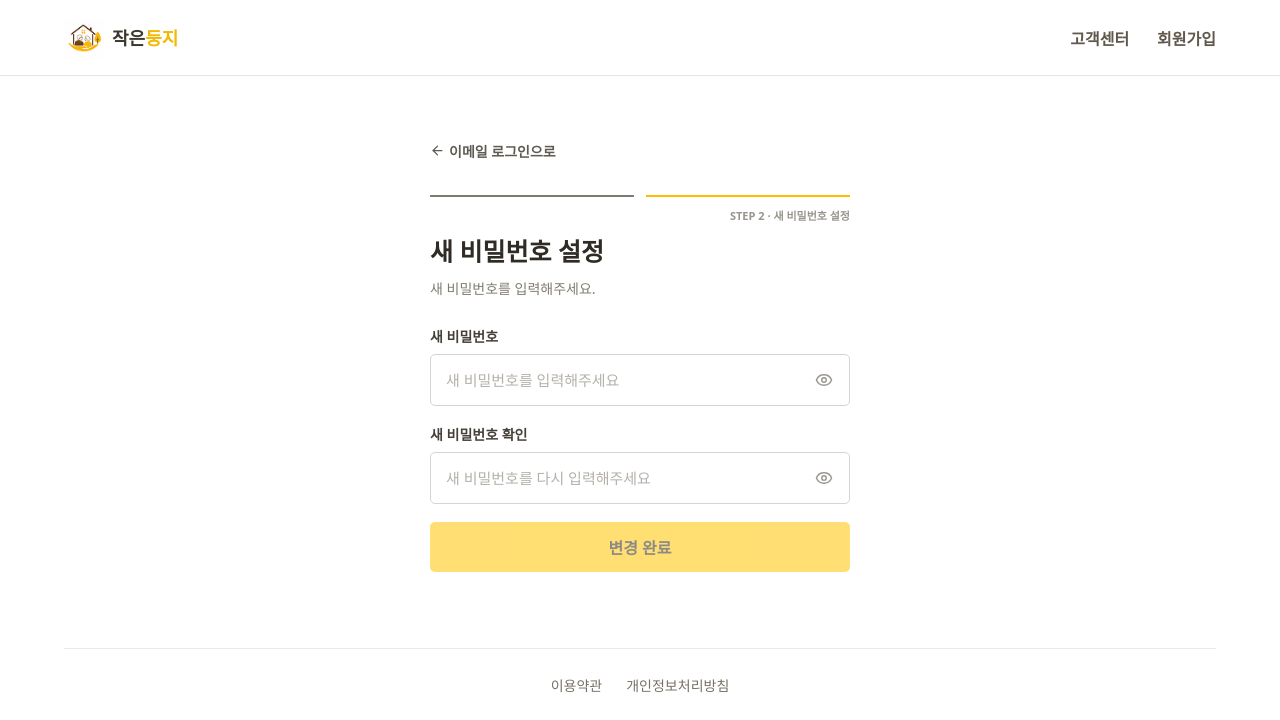
Scenario: PasswordResetCompleteView › shows password policy and matching feedback before enabling submit
Type "weak" into the password field named "password" at (640, 380), box [430,354,850,406]
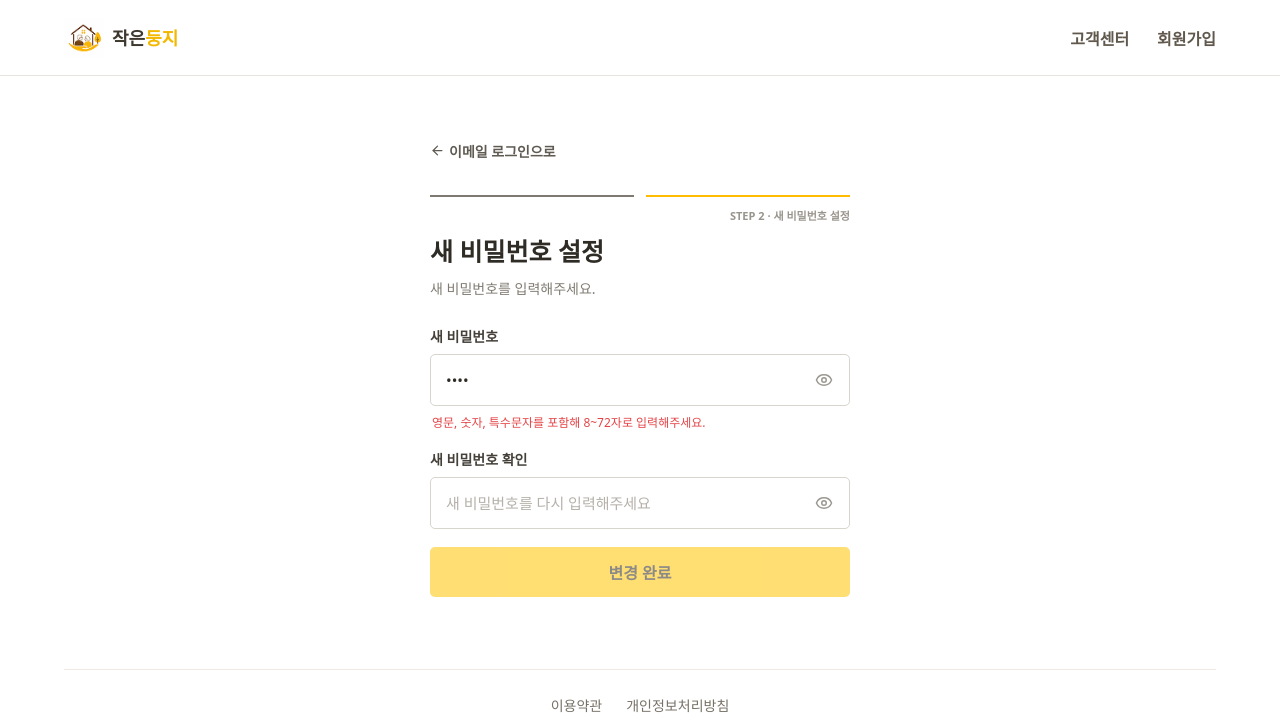
Expected: the submit button is disabled, [430,547,850,597]
Result: the text "영문, 숫자, 특수문자를 포함해 8~72자로 입력해주세요." is shown at [432,414,706,430]
Type "NewSenior!23" into the password field named "password" at (640, 380), box [430,354,850,406]
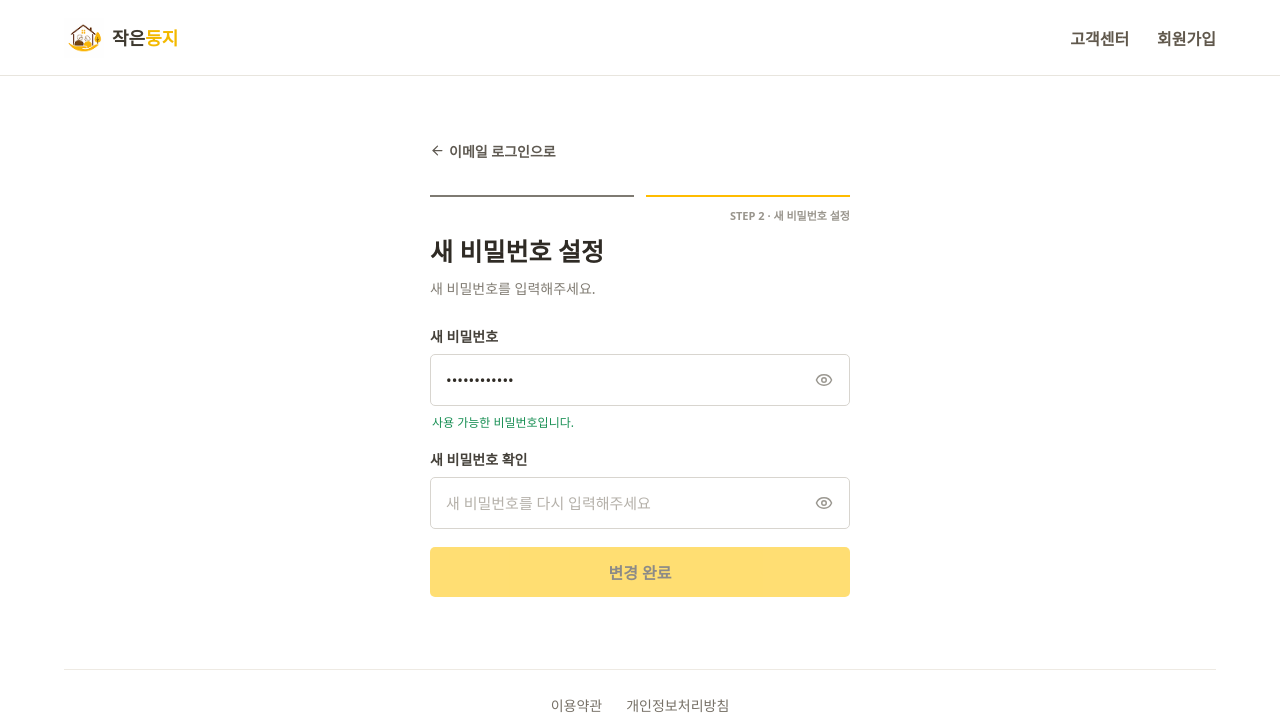
Result: the text "사용 가능한 비밀번호입니다." is shown at [432,414,574,430]
Type "NewSenior!23" into the password field named "passwordConfirm" at (640, 503), box [430,477,850,529]
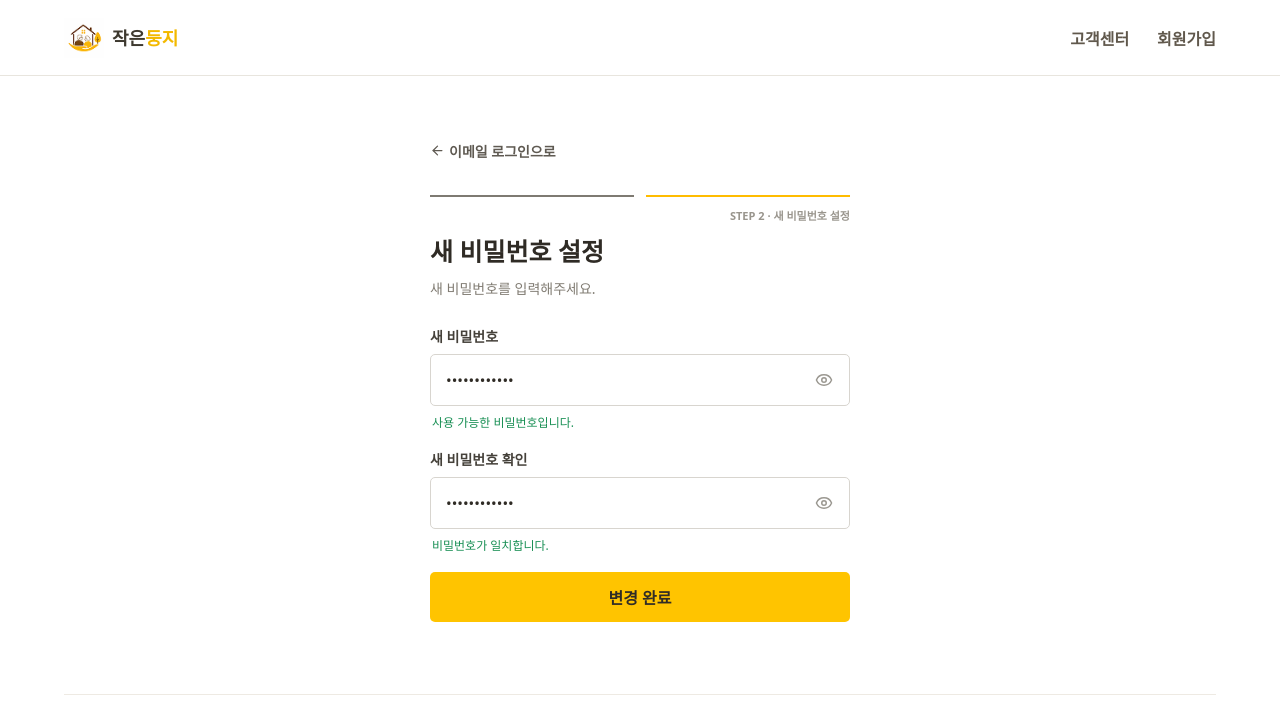
Result: the text "비밀번호가 일치합니다." is shown at [432,537,549,554]
Result: the submit button is enabled at [430,572,850,622]
Click the button named "비밀번호 표시" at (824, 380), box [800,354,848,406]
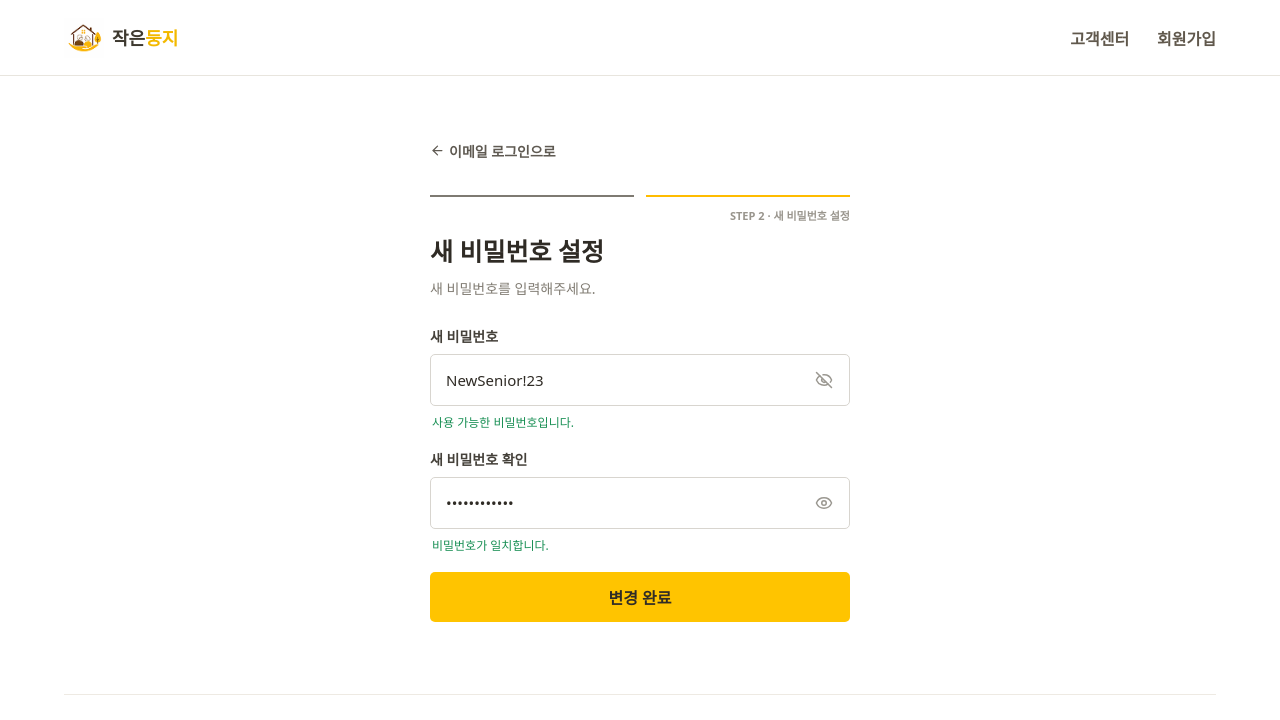
Result: the field named "password" shows its text at [430,354,850,406]
